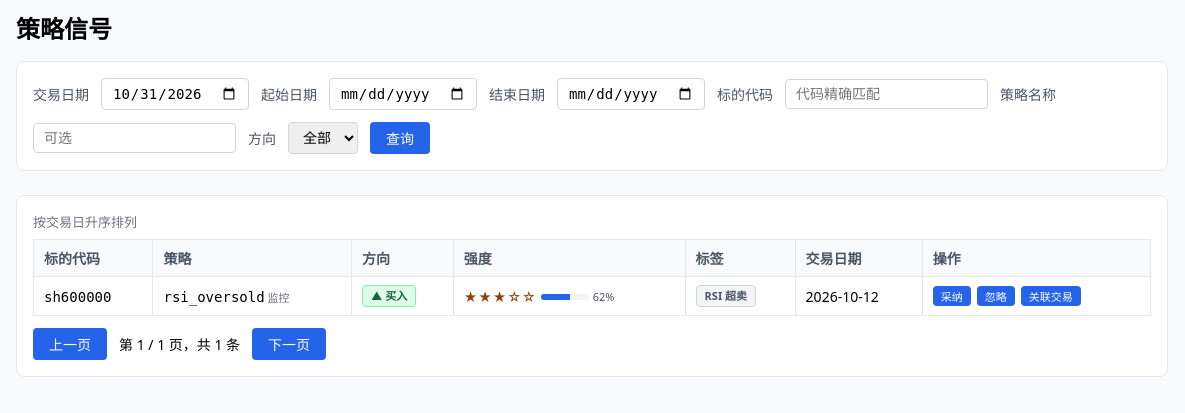
Scenario: T149 · 信号操作列（采纳/忽略 → PATCH /signal/:id/{adopt|ignore}） › 点「采纳」→ PATCH /signal/1/adopt，成功后按钮变「已采纳」
Click the button "采纳": (952, 296) [933,286,971,306]
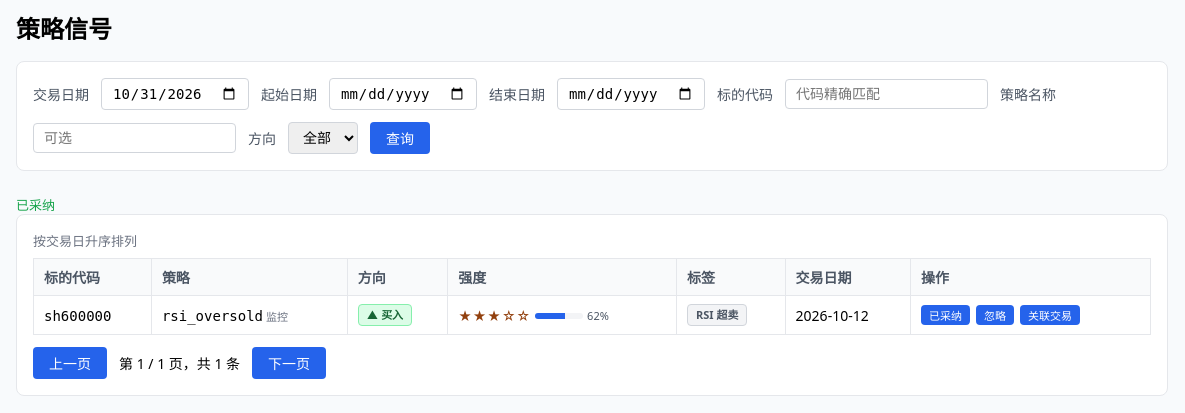
Check: the button "已采纳" is shown, box [921,305,970,325]
